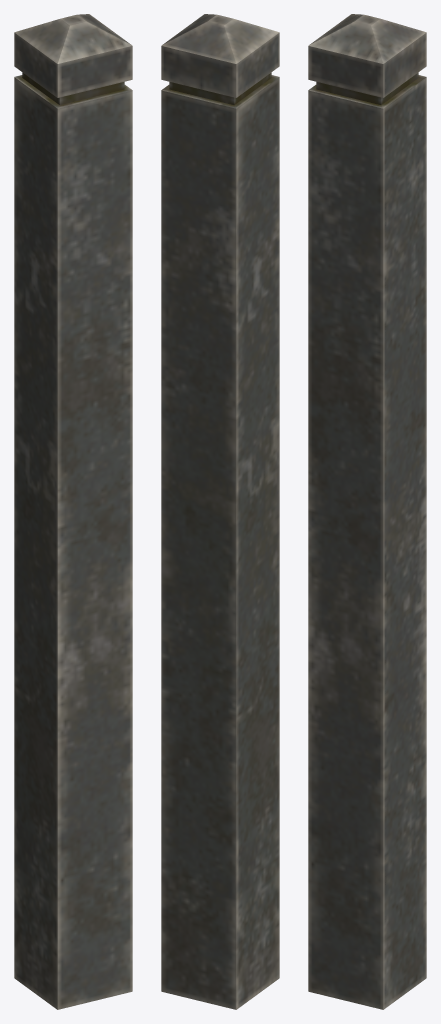
File: JT_Gy_Prp_Post_01.fbx
3 views of the same model, side by side, from view 1: azimuth 30°, elevation 25°; view 2: azimuth 150°, elevation 25°; view 3: azimuth 330°, elevation 25° (orthographic).
Parts seen in each view (by area): view 1: JT_Gy_Prp_Post_01, JT_Gy_Prp_Post_01_LOD0; view 2: JT_Gy_Prp_Post_01_LOD0, JT_Gy_Prp_Post_01; view 3: JT_Gy_Prp_Post_01, JT_Gy_Prp_Post_01_LOD0.
Boxes of the visible parts, <box> form: JT_Gy_Prp_Post_01: <box>14,14,132,1009</box>; JT_Gy_Prp_Post_01_LOD0: <box>14,14,132,1007</box>; JT_Gy_Prp_Post_01_LOD0: <box>161,14,279,1009</box>; JT_Gy_Prp_Post_01: <box>161,14,279,1009</box>; JT_Gy_Prp_Post_01: <box>308,14,426,1009</box>; JT_Gy_Prp_Post_01_LOD0: <box>308,15,426,1007</box>.
Size of what is drawn, in the model's own units: 0.0874 by 1.07 by 0.0874.
